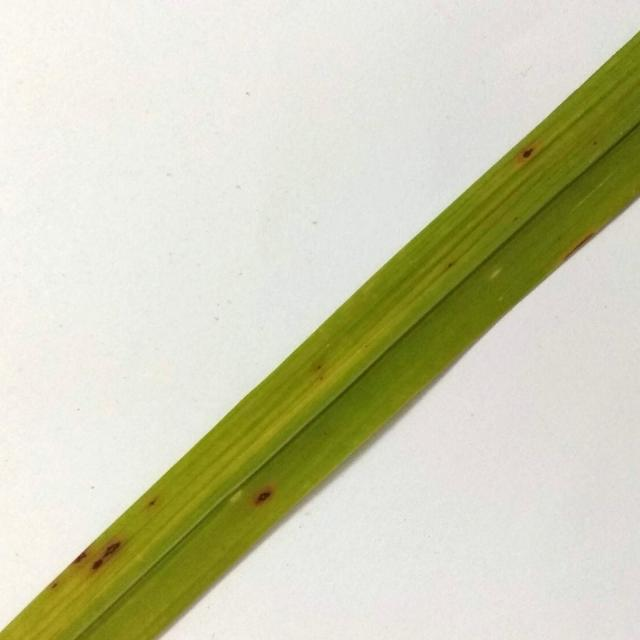Leaf_Blast: (209, 465, 313, 522), (75, 525, 142, 588), (505, 129, 555, 178)
